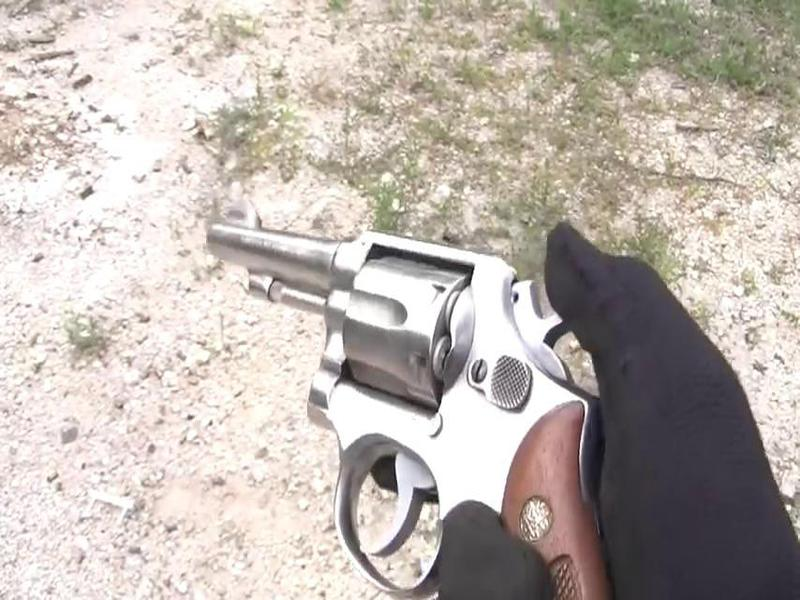Revolver: (187, 165, 616, 600)
